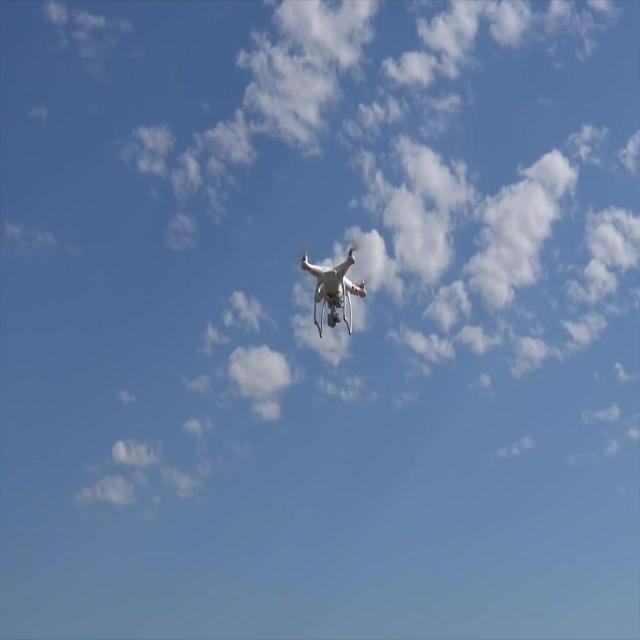drone: (300, 242, 368, 342)
